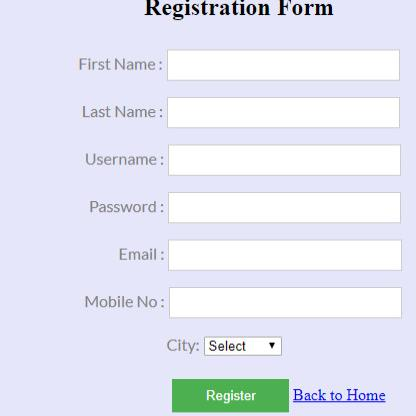button: (170, 377, 291, 413)
field: (167, 285, 403, 321), (166, 47, 401, 82), (167, 143, 402, 178), (166, 191, 402, 225), (167, 239, 403, 273), (165, 96, 400, 130), (203, 336, 284, 358)
field_with_label: (80, 45, 404, 85), (85, 141, 404, 181), (83, 283, 405, 322), (89, 188, 404, 227), (82, 94, 403, 132), (119, 238, 405, 275), (167, 333, 286, 360)
